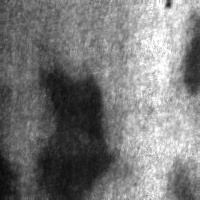patches: (94, 73, 156, 197), (1, 155, 35, 200), (0, 14, 17, 92), (178, 155, 199, 200)
